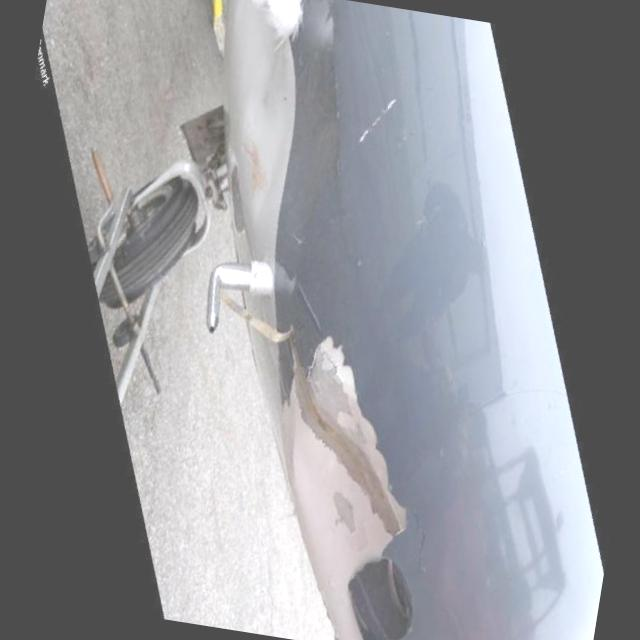crack: (402, 512, 439, 578)
dent: (281, 398, 358, 528), (242, 50, 294, 142), (258, 121, 291, 222)
